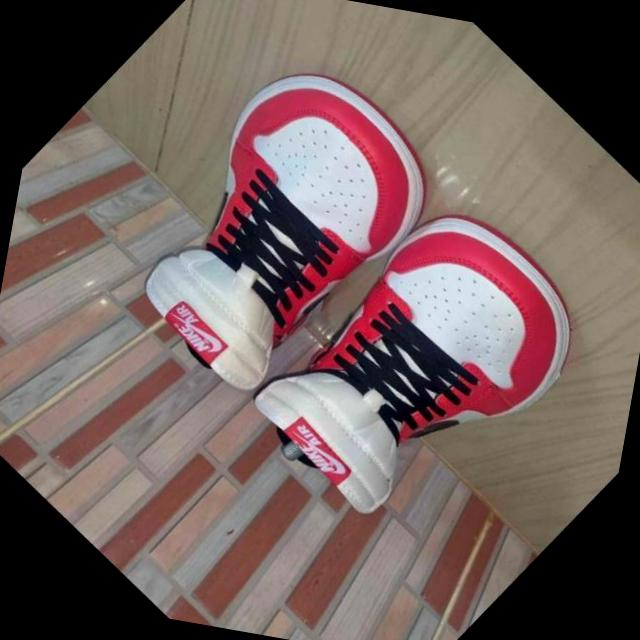nike_fake_jordan: (207, 145, 634, 594), (77, 13, 476, 434)
